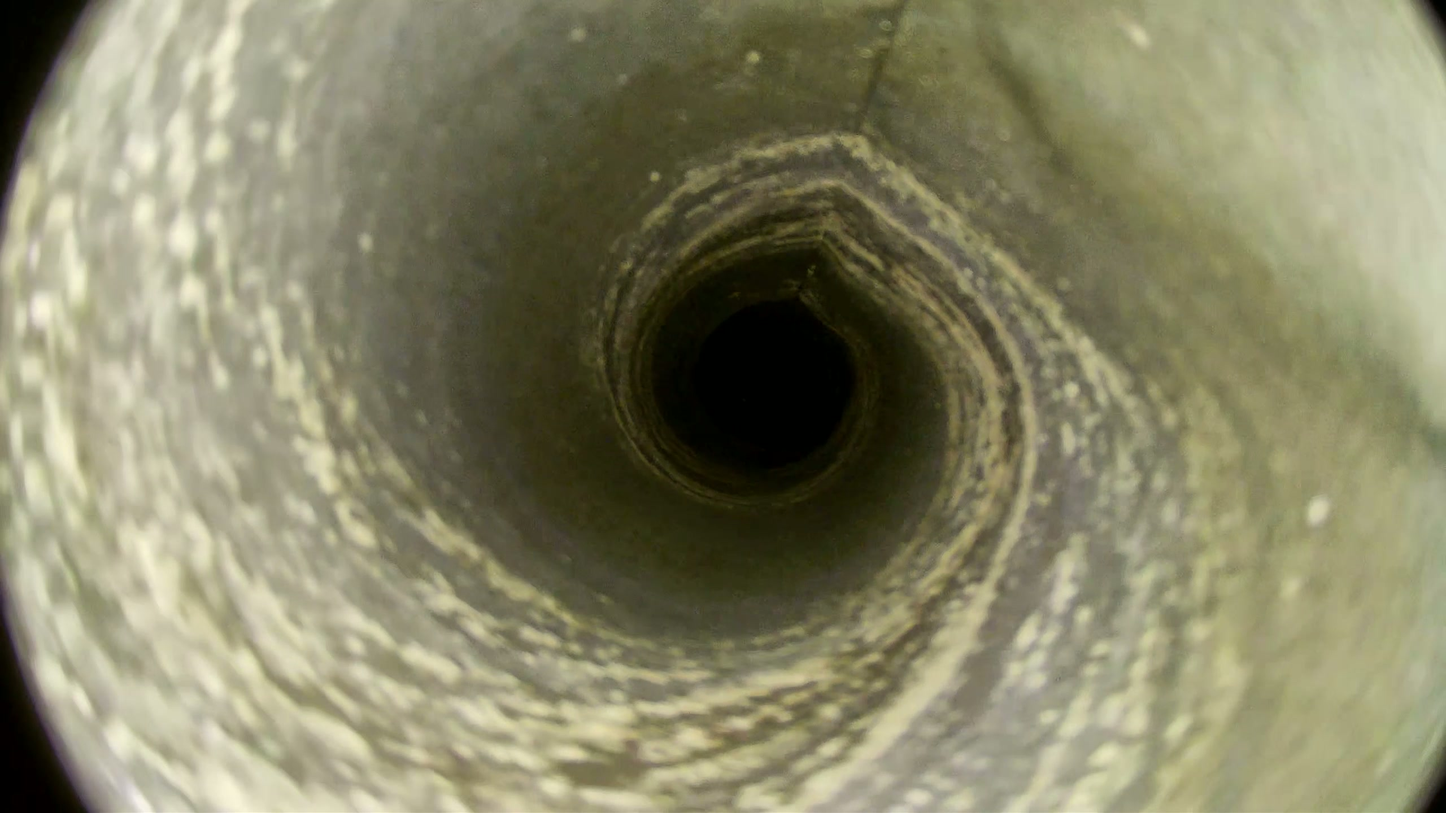hole: (696, 302, 851, 452)
